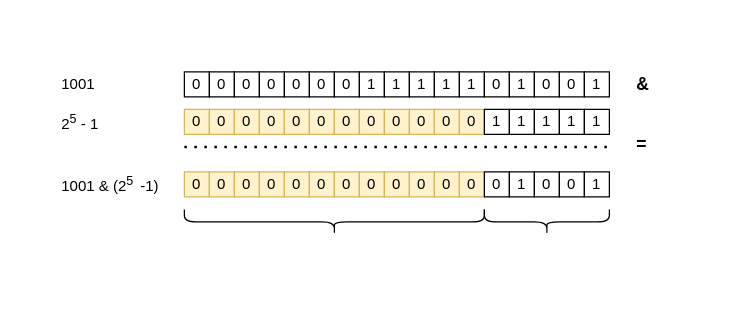
Image size: 743x318. Some labels were removed from this diagram. The shapes that lost their labels are listed below. From the top down, each one's centre as x and y in pixels, then its label:
At (333,221): "This area of the result will always be full of zeroes".
At (546,221): "The remainder".
